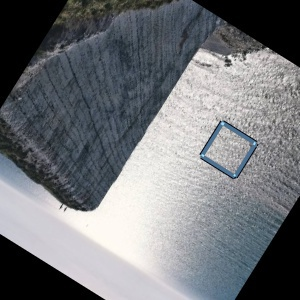square: (198, 118, 258, 179)
